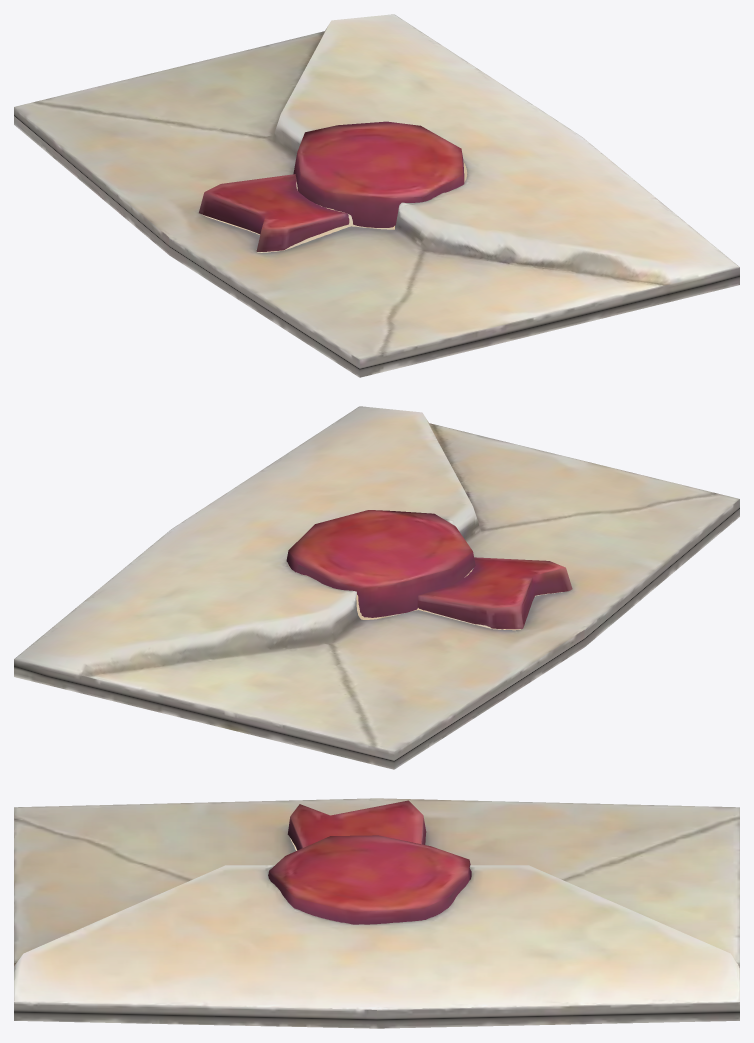
The picture shows the model from 3 angles, top to bottom: view 1: azimuth 30°, elevation 25°; view 2: azimuth 150°, elevation 25°; view 3: azimuth 270°, elevation 25°; orthographic projection. The views are drawn at different scales.
Visible parts, largest first — view 1: SM_Letter_LOD0; view 2: SM_Letter_LOD0; view 3: SM_Letter_LOD0.
Boxes of the visible parts, x1,y1,x2,y2 form: SM_Letter_LOD0: [14, 14, 739, 377]; SM_Letter_LOD0: [14, 406, 739, 769]; SM_Letter_LOD0: [14, 798, 739, 1028].
Size of the model in its own units: 0.1391 by 0.0152 by 0.2017.
Materials: 1 (1 with a texture image).
